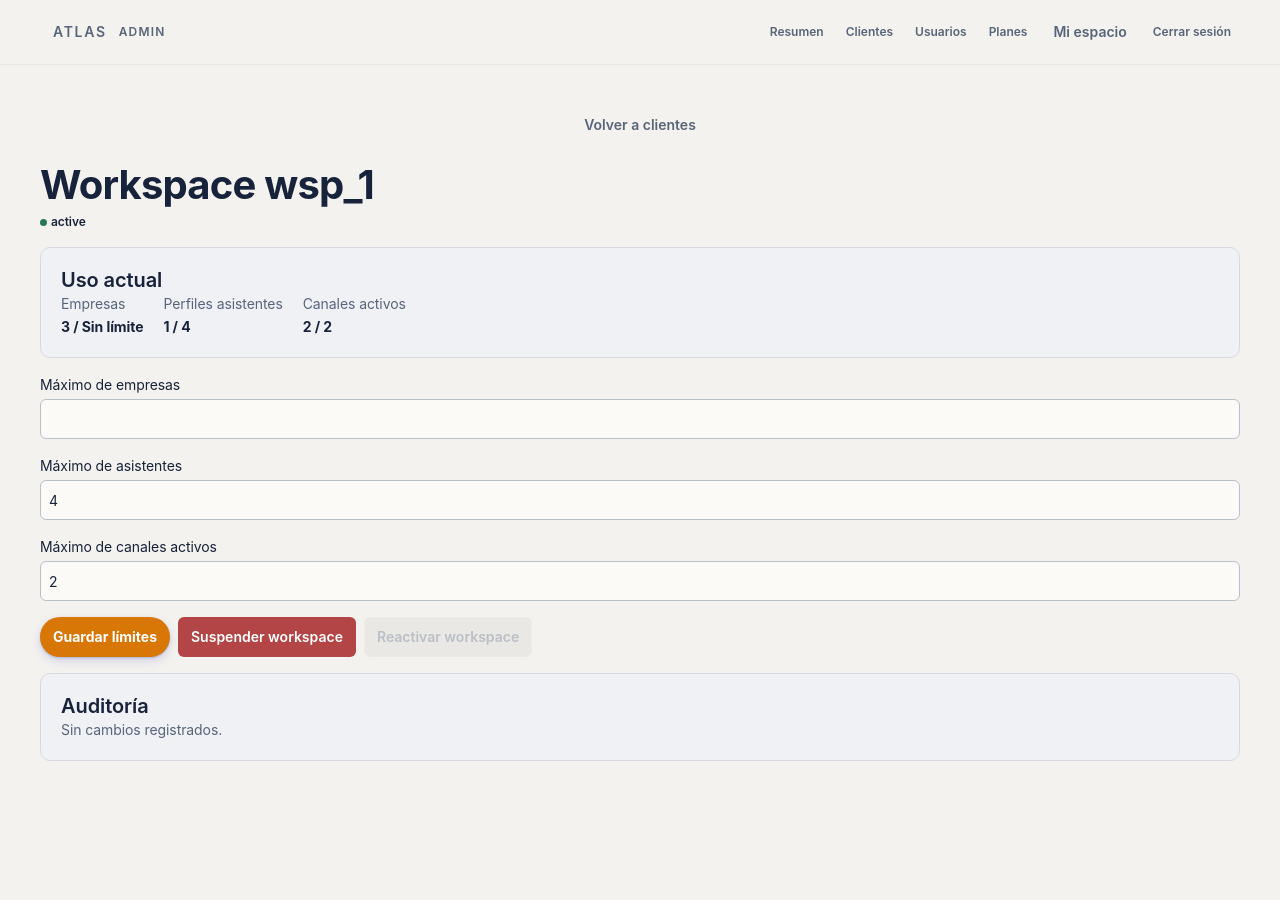
it: uses versioned workspace suspension with commercial audit
This screenshot has width=1280, height=900.
Expected: the heading "Workspace wsp_1" is shown, [40,160,374,209]
Expected: the text "3 / Sin límite" is shown, [61,316,143,337]
Click the button "Suspender workspace" at [267, 637], box [178,617,356,657]
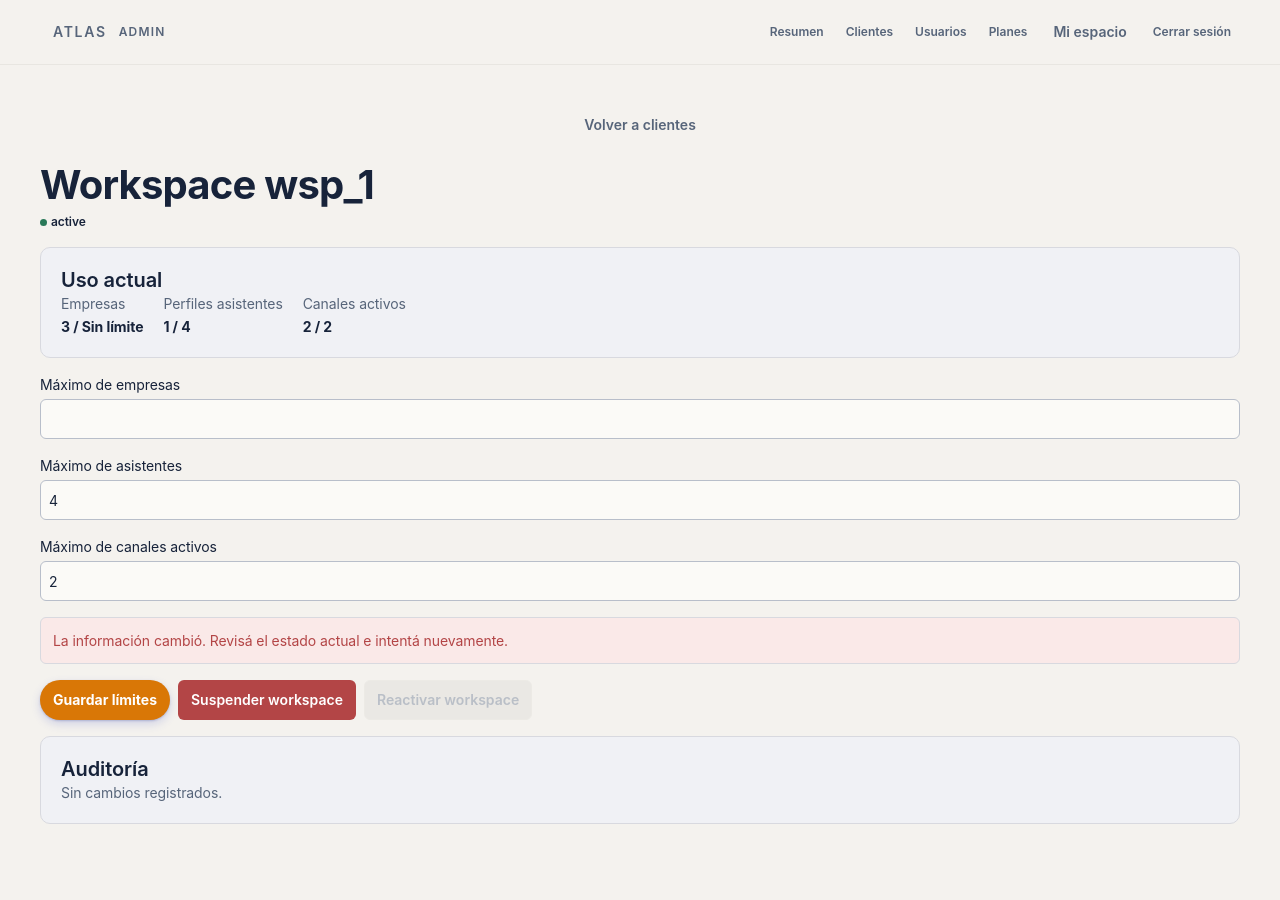
Now the text "La información cambió. Revisá el estado actual e intentá nuevamente." is shown, box [40,617,1240,664]
